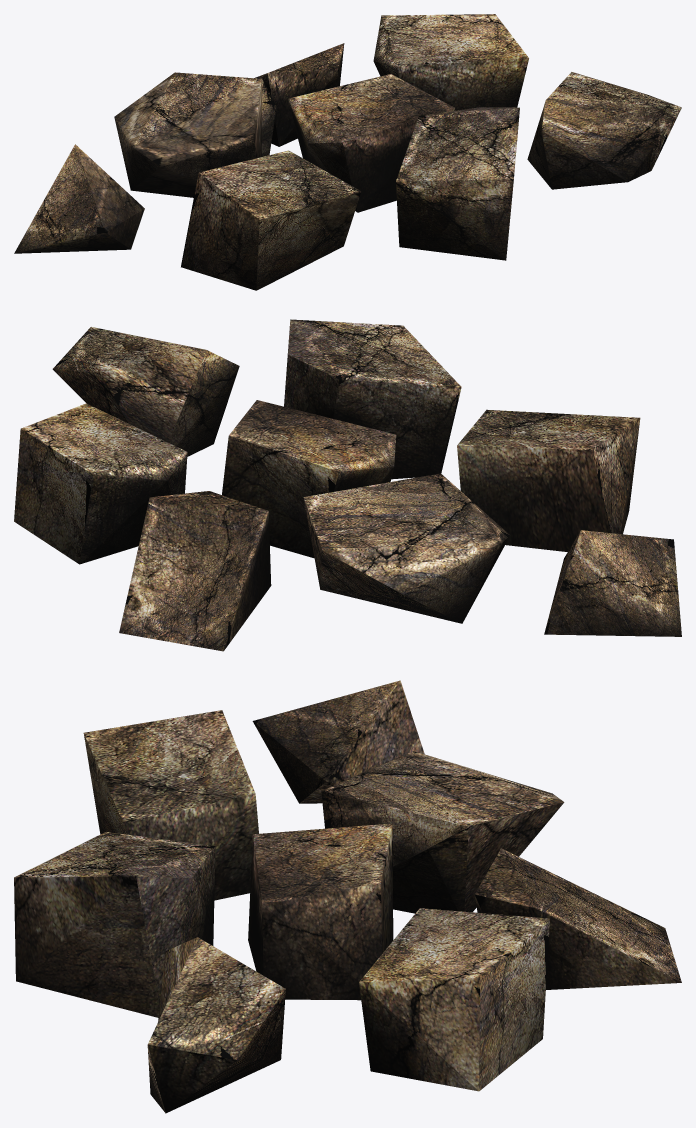
File: rock_006_LOD2.dae
3 renders of one model, top to bottom at view 1: azimuth 30°, elevation 25°; view 2: azimuth 150°, elevation 25°; view 3: azimuth 270°, elevation 25°, orthographic. The views are drawn at different scales.
Visible parts, largest first — view 1: Mesh_Object; view 2: Mesh_Object; view 3: Mesh_Object.
Part boxes in pixels (x1,y1,x2,y2): Mesh_Object: [14, 14, 681, 290]; Mesh_Object: [14, 319, 681, 651]; Mesh_Object: [14, 680, 681, 1113].
Bounding box in the file's own units: 7.45 × 1.29 × 5.45.
